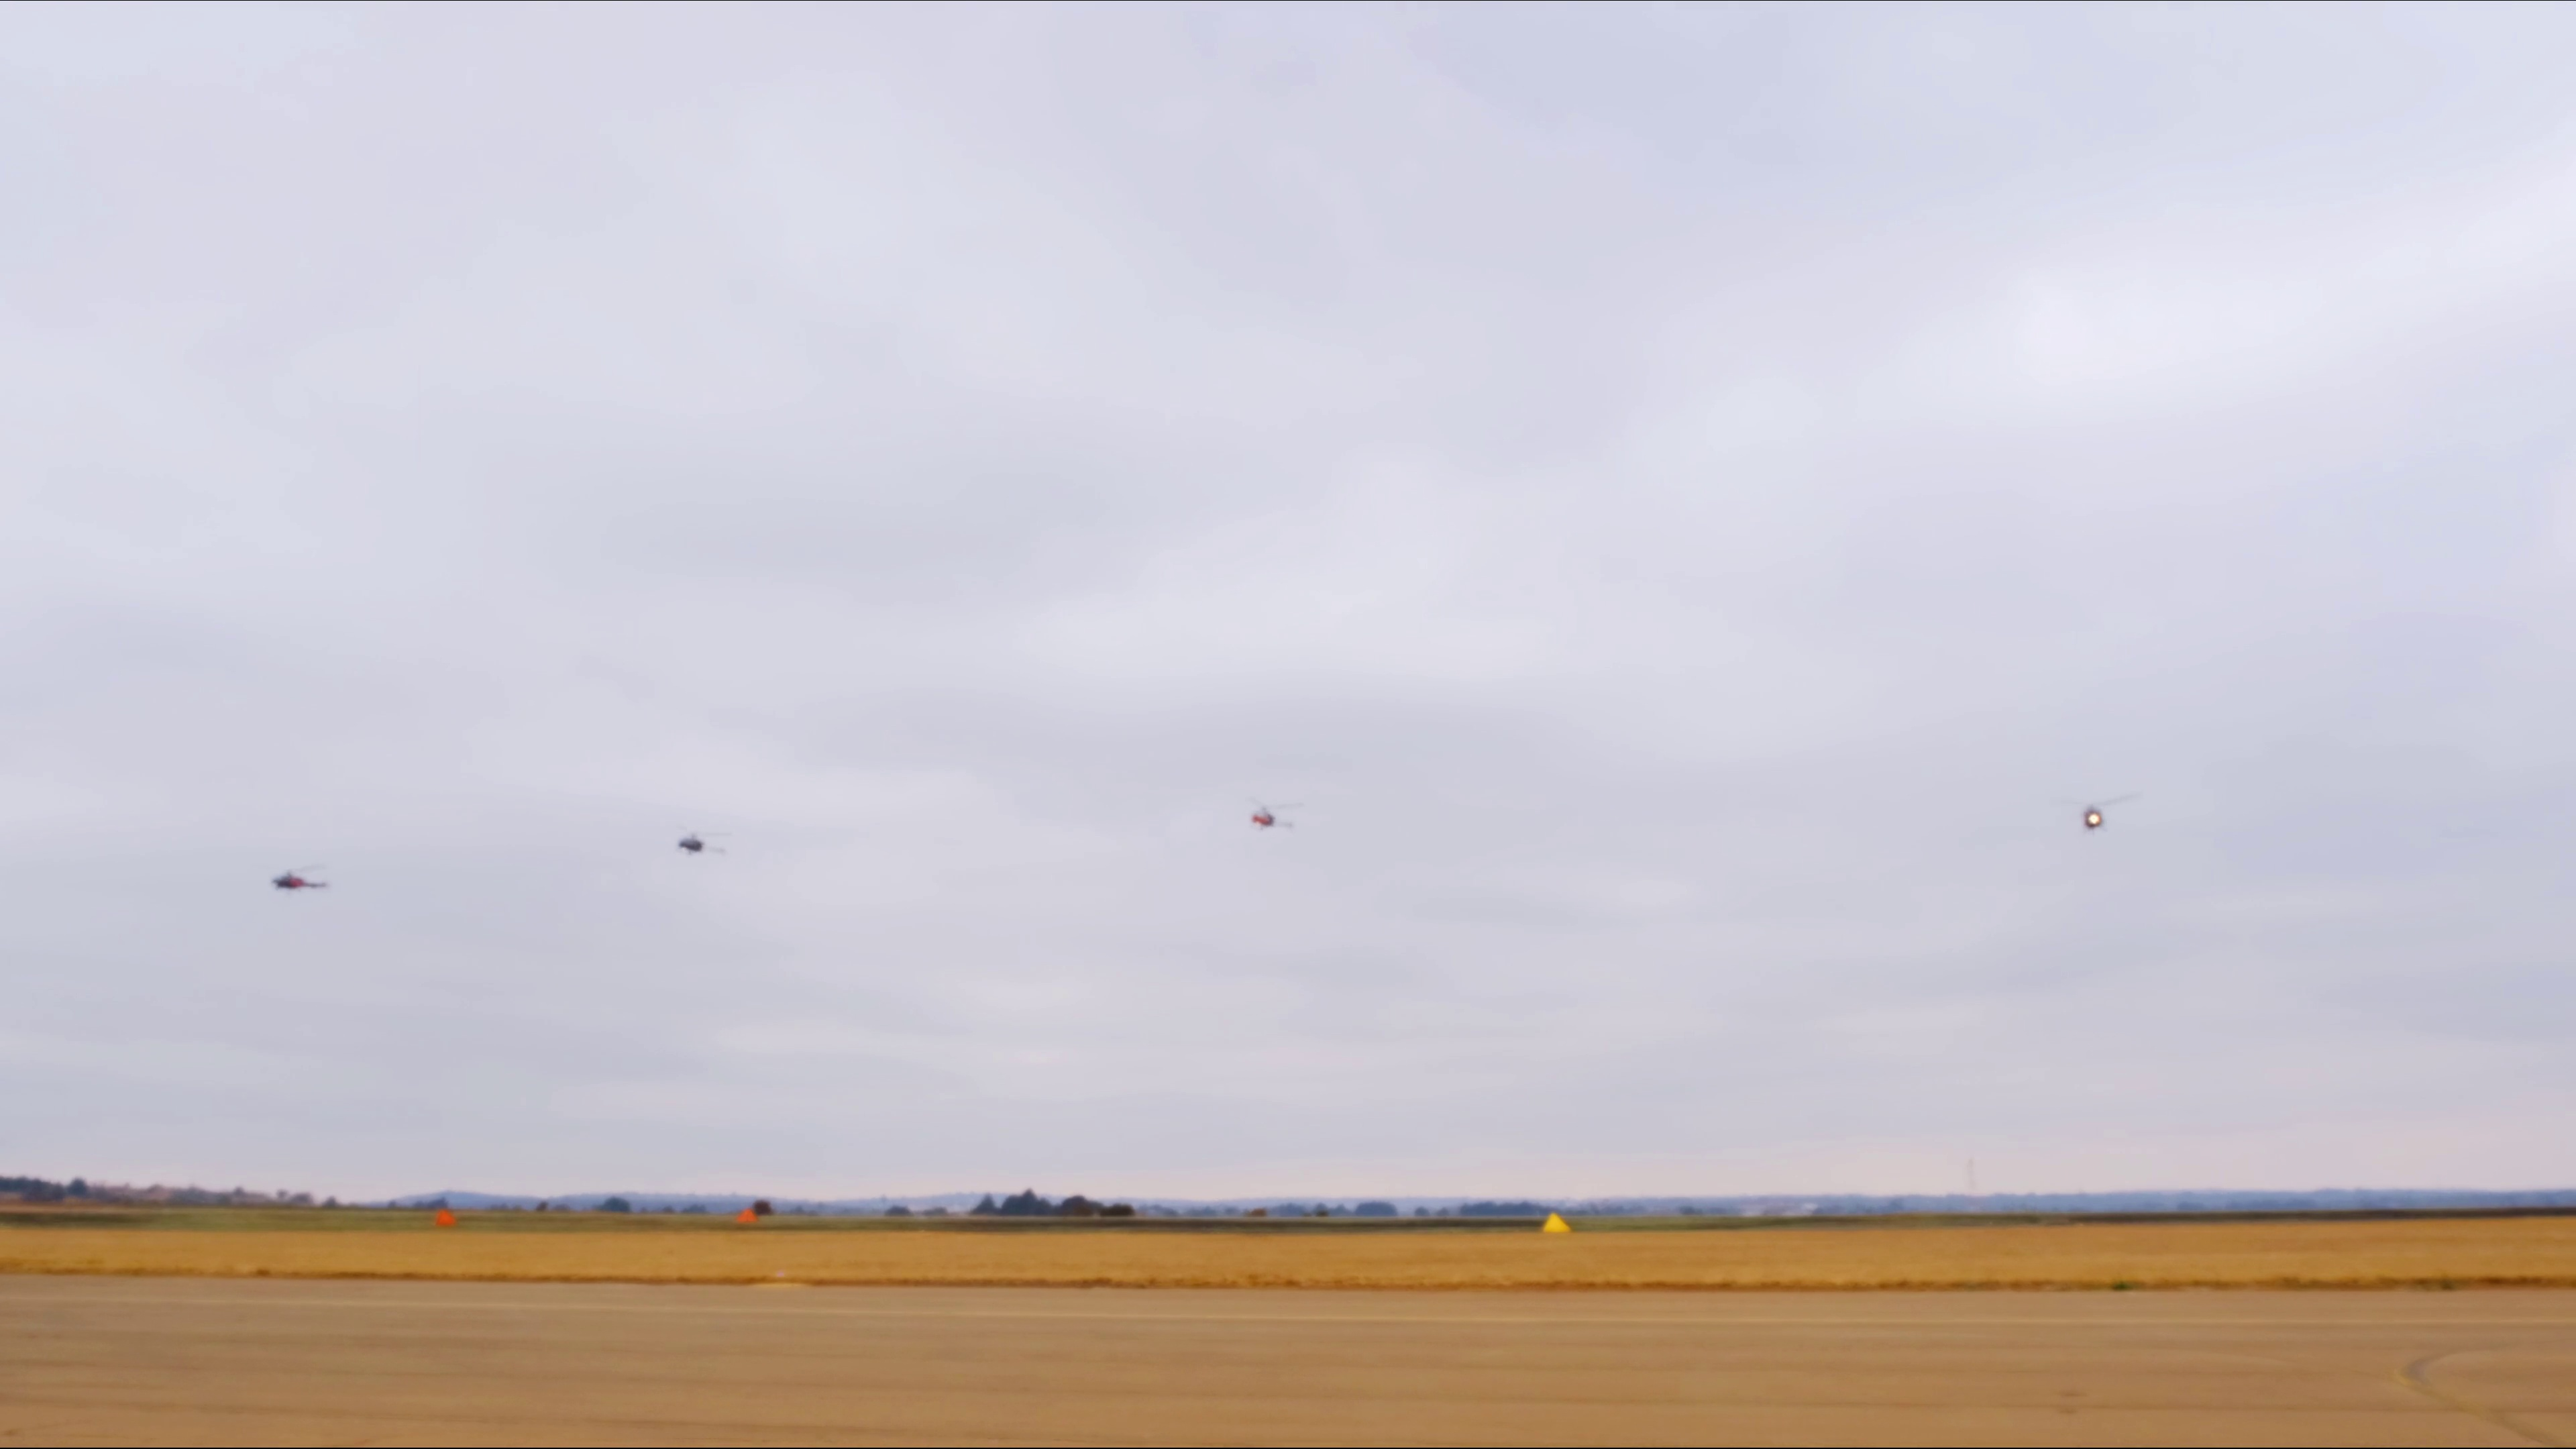heli: (2066, 794, 2130, 835), (1246, 800, 1302, 832), (271, 865, 327, 895), (674, 828, 722, 858)
